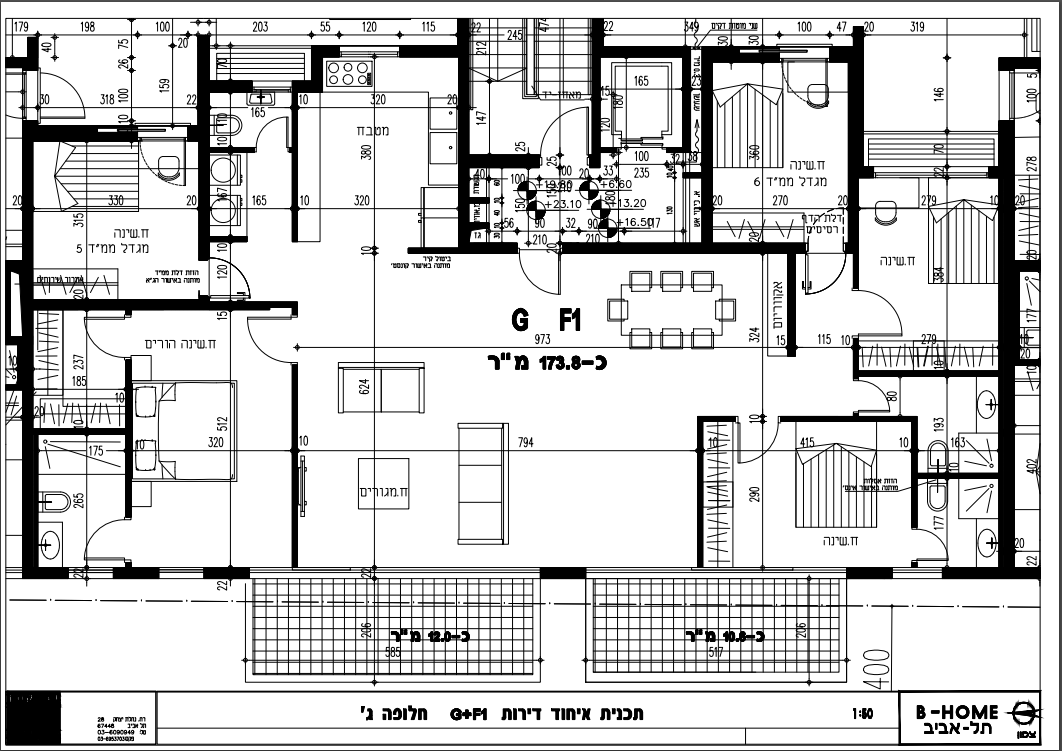door: (860, 284, 904, 339), (243, 314, 289, 366), (800, 254, 848, 301), (514, 253, 563, 299), (252, 113, 290, 146)
